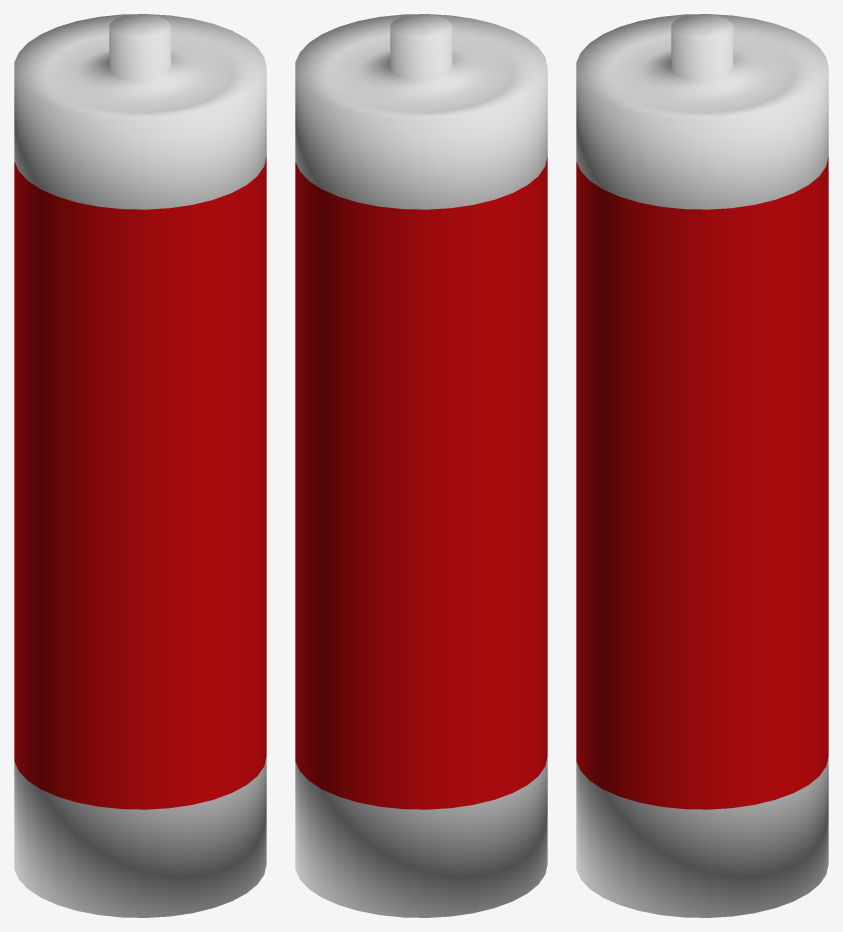
File: battery.glb
The picture shows the model from 3 angles, left to right: view 1: azimuth 30°, elevation 25°; view 2: azimuth 150°, elevation 25°; view 3: azimuth 270°, elevation 25°; orthographic projection.
Visible parts, largest first — view 1: Cylinder; view 2: Cylinder; view 3: Cylinder.
Boxes of the visible parts, x1,y1,x2,y2 form: Cylinder: (14, 14, 266, 917); Cylinder: (295, 14, 547, 917); Cylinder: (576, 14, 828, 917).
Size of the model in its own units: 0.1287 by 0.4708 by 0.1285.
